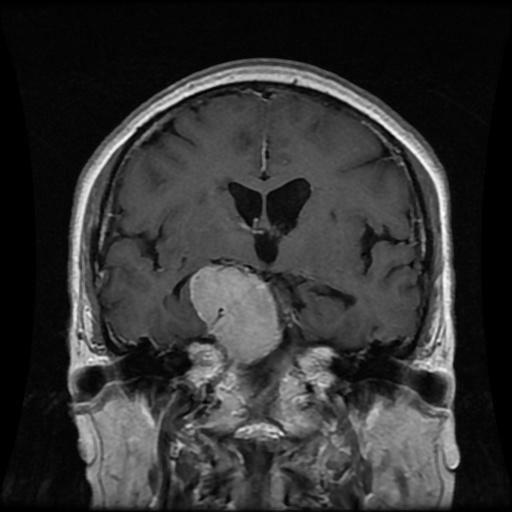meningioma: (189, 265, 284, 365)
